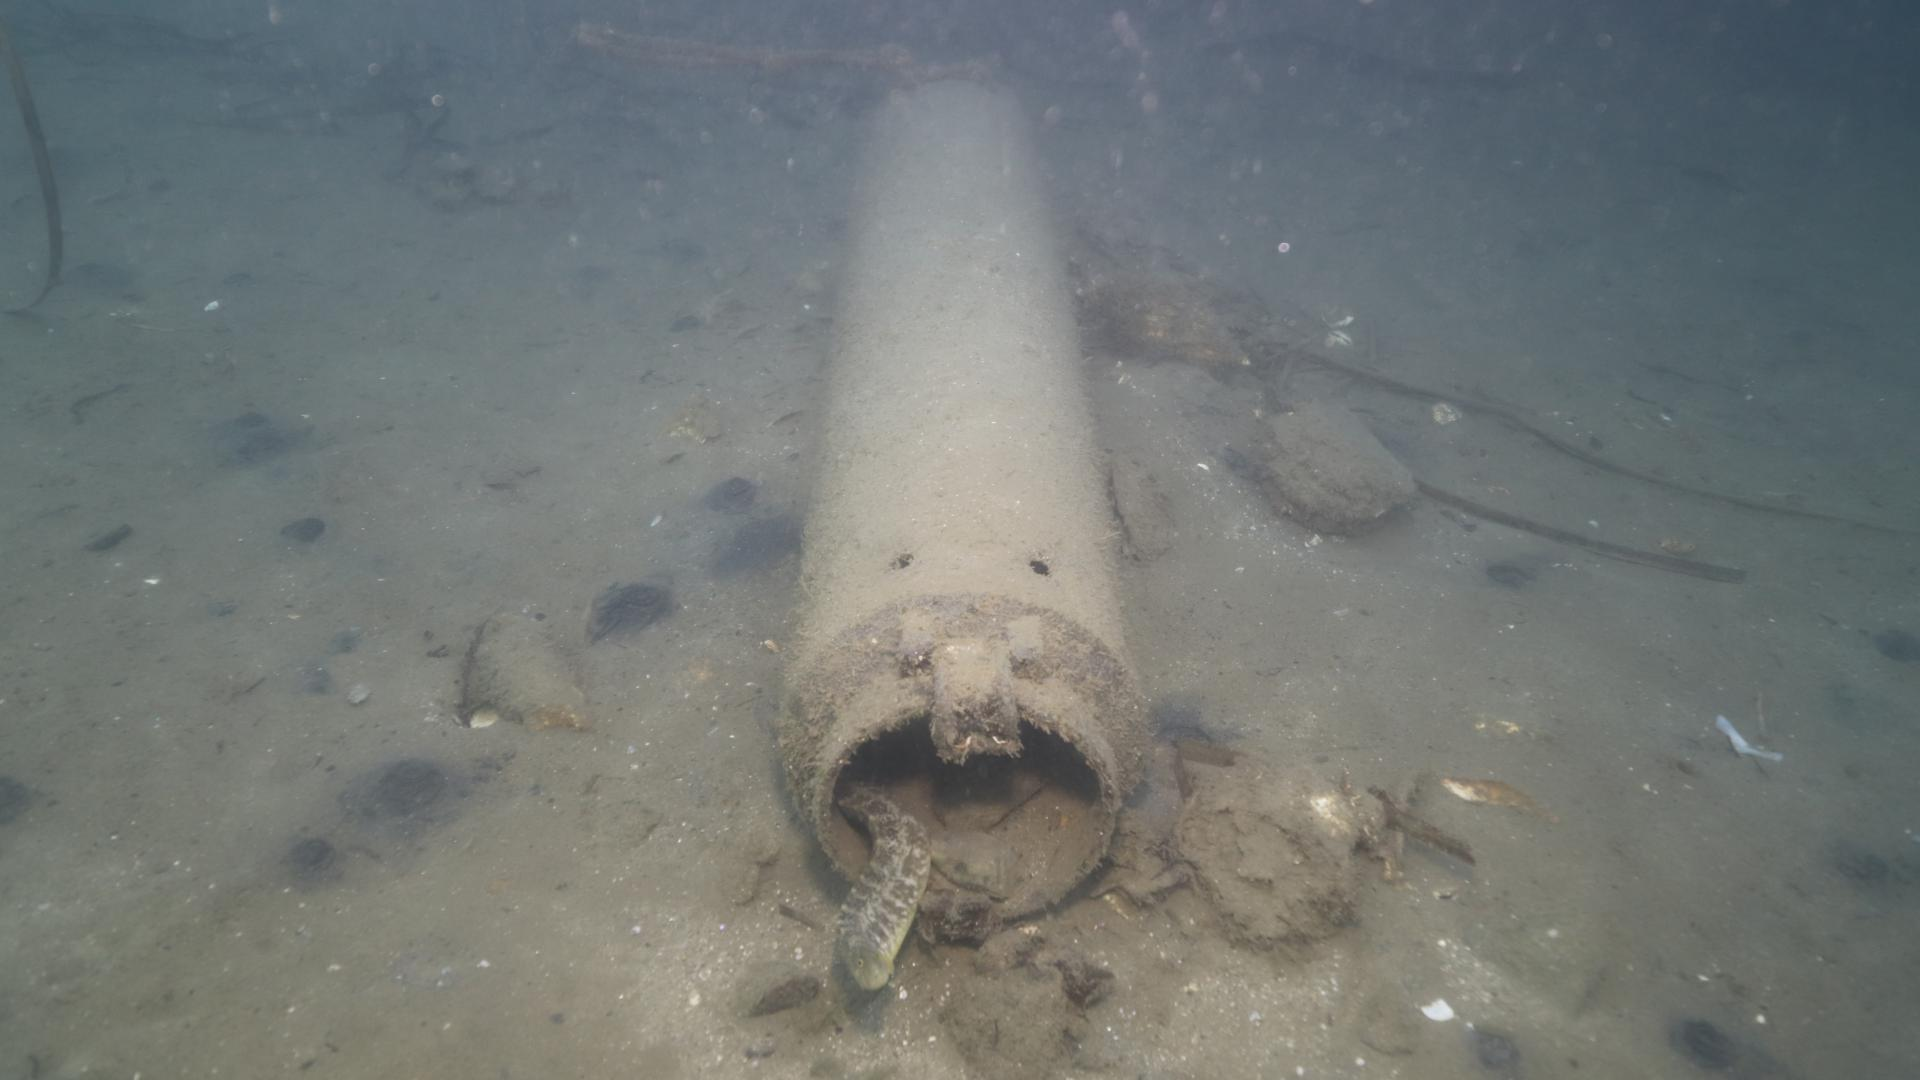bundle of ropes: (571, 15, 1006, 79)
eel fish trap: (769, 76, 1153, 930)
